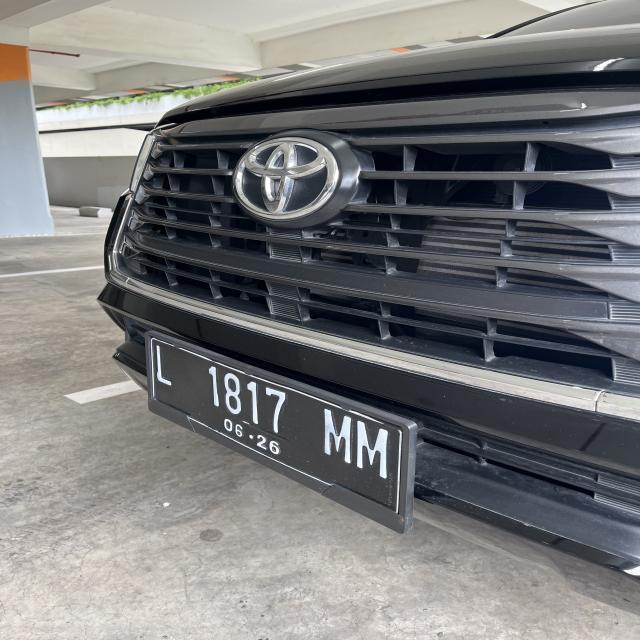1: (247, 379, 262, 426), (208, 365, 222, 408)
7: (265, 386, 287, 438)
8: (224, 370, 242, 417)
L: (148, 340, 170, 388)
M: (356, 420, 389, 478), (322, 406, 353, 462)
